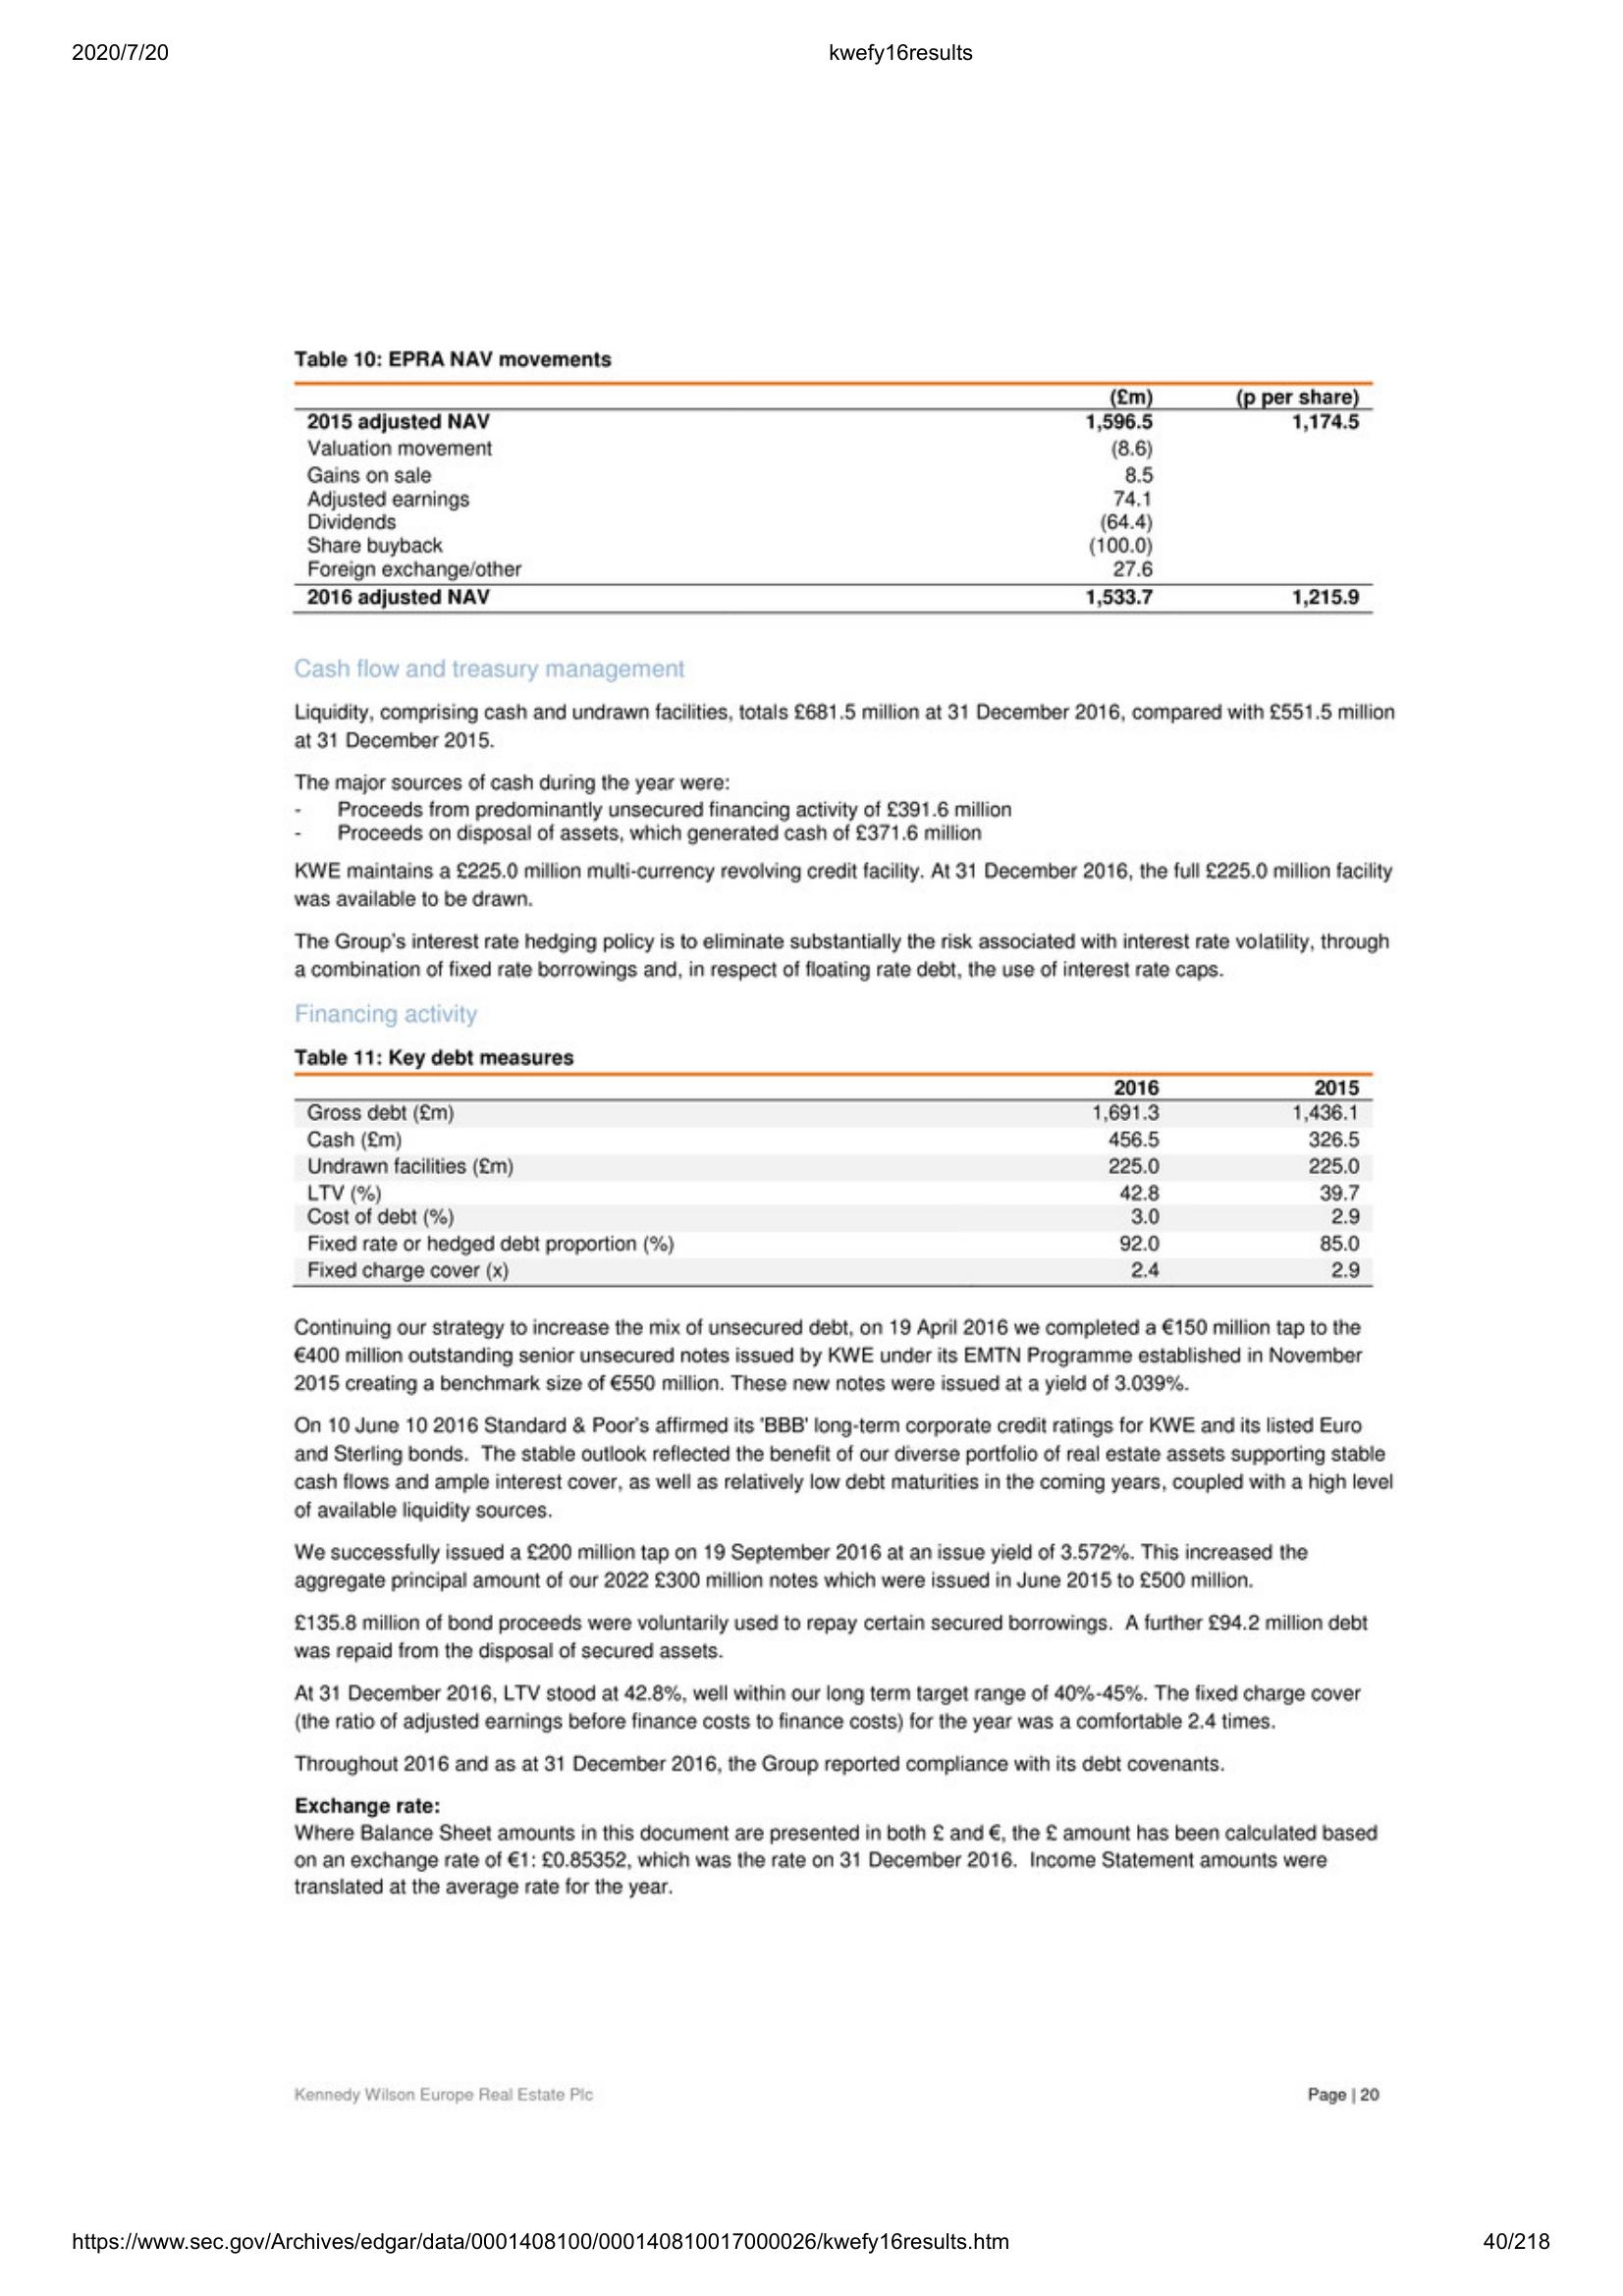table: (295, 374, 1384, 620), (285, 1058, 1375, 1292)
